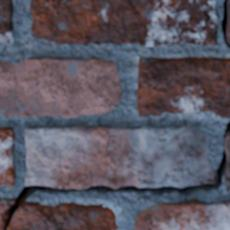brick: (25, 126, 215, 187), (31, 0, 217, 45), (0, 57, 120, 116), (135, 200, 229, 229), (0, 128, 14, 186), (0, 0, 13, 43), (225, 133, 229, 191), (227, 3, 229, 41)
broken_brick: (136, 56, 229, 118), (9, 200, 118, 229), (0, 198, 13, 229)
crack: (2, 148, 227, 229), (198, 2, 211, 45), (220, 0, 229, 48), (222, 120, 229, 139)
